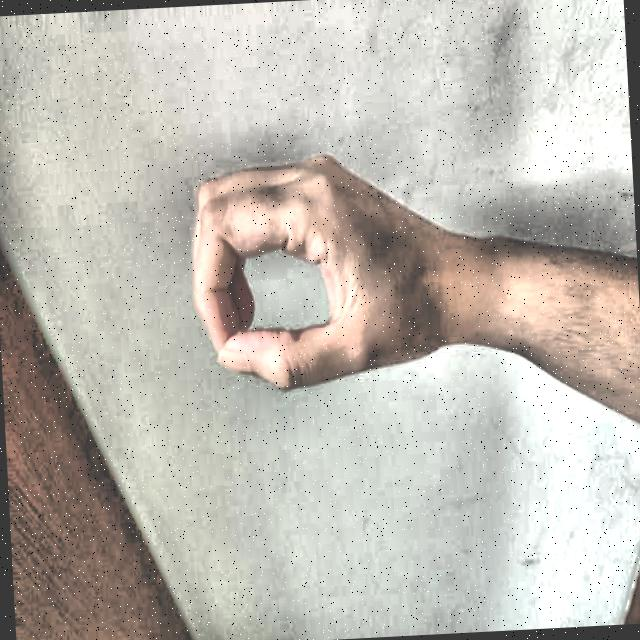O: (154, 110, 472, 422)
